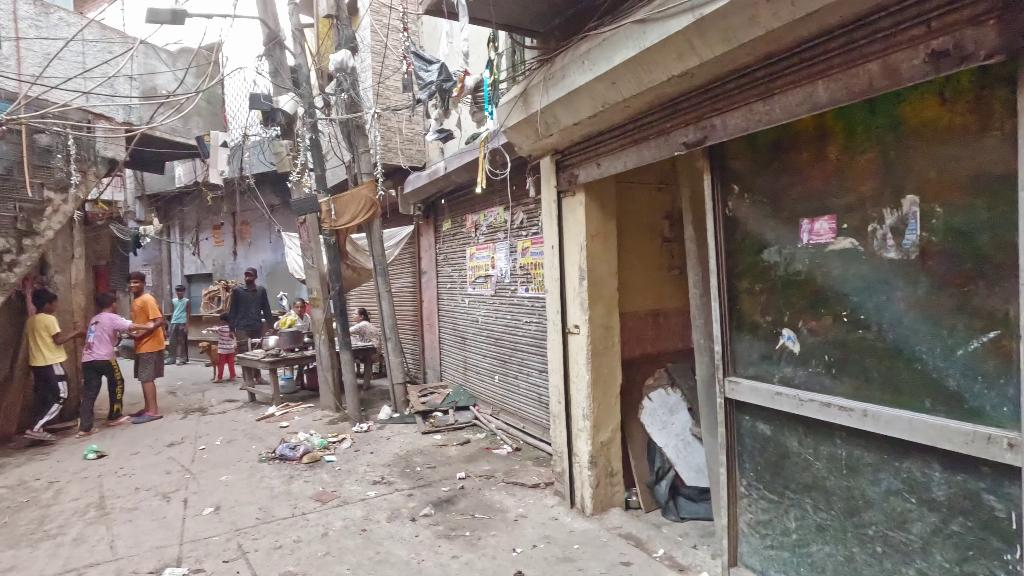garbage: (253, 423, 359, 467), (375, 403, 399, 425), (409, 505, 442, 521), (80, 444, 106, 462), (352, 415, 371, 433), (453, 468, 470, 481)
